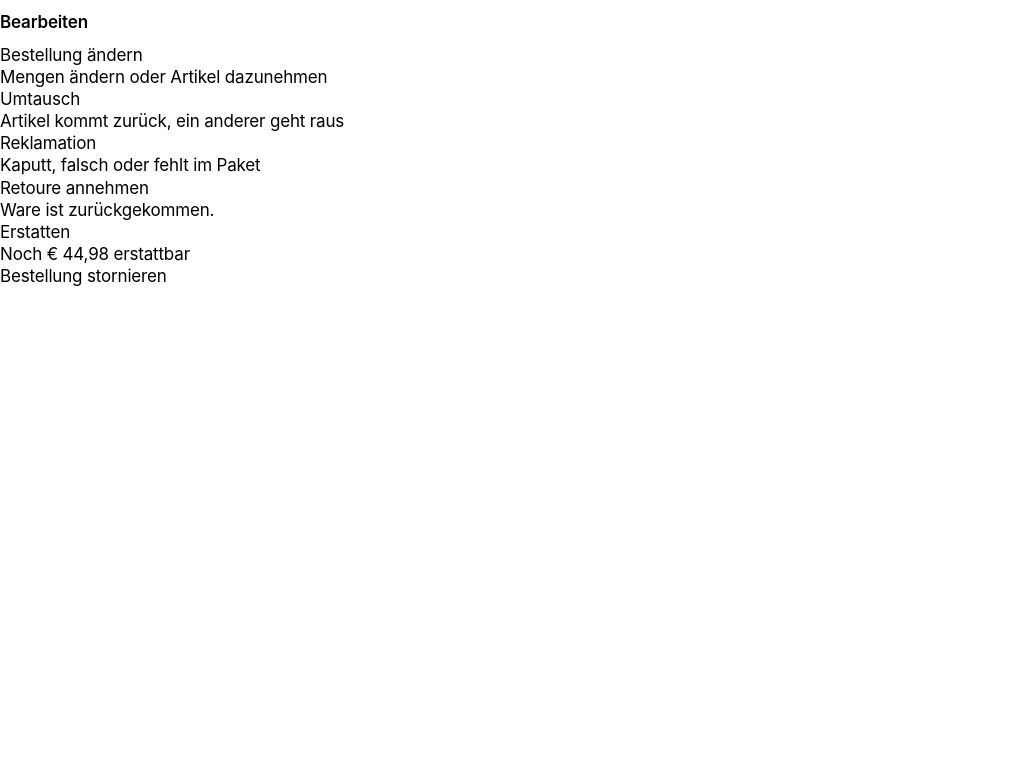
Scenario: refund › rejects an amount above the maximum before any request
Later steps or results of the test are not shown.
Click the button "Erstatten Noch € 44,98 erstattbar" at (35,232), box x1=0 y1=221 x2=1023 y2=265
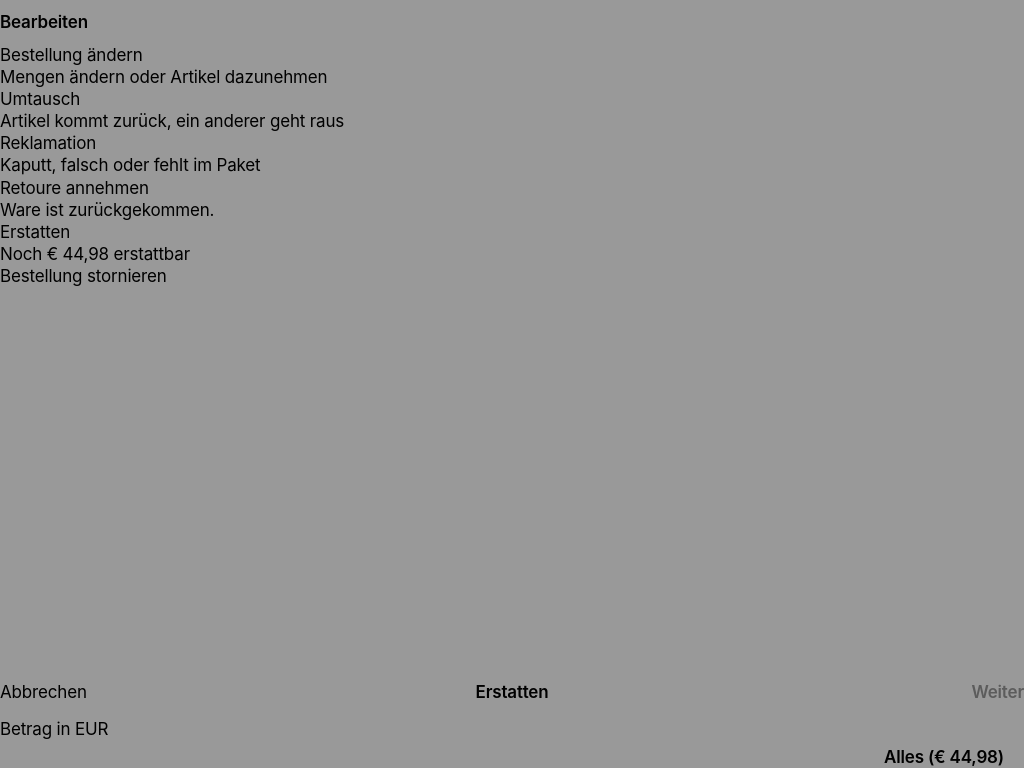
Type "44,99" into the field labelled "Betrag in EUR" at (512,757), box x1=0 y1=746 x2=1023 y2=767
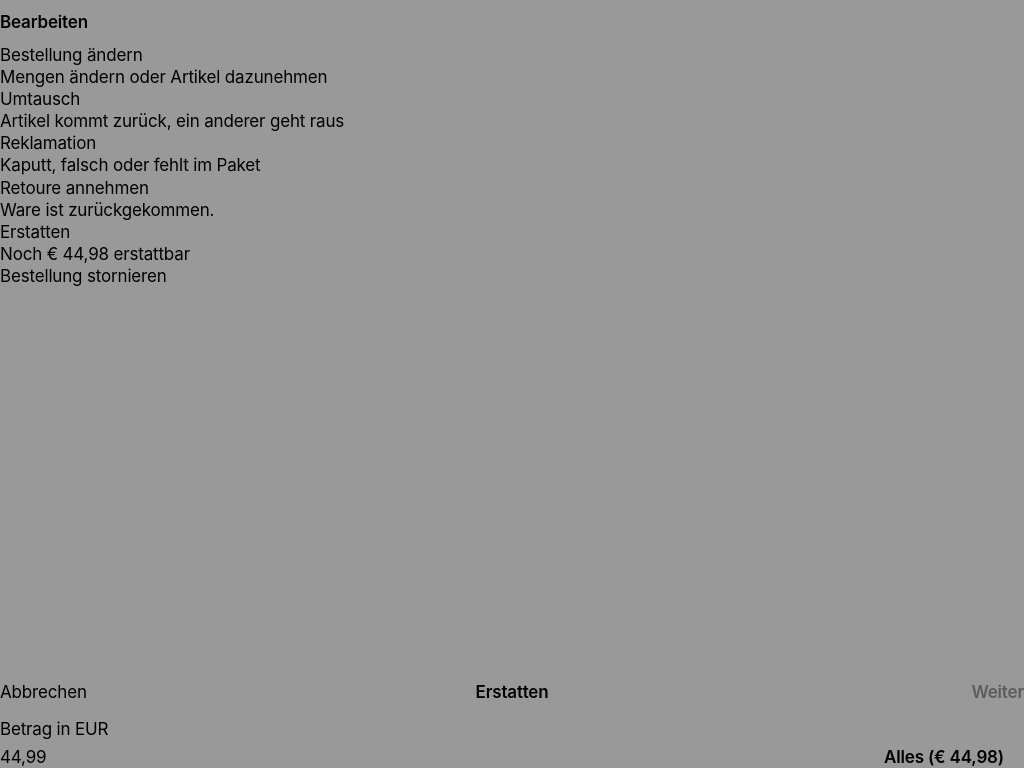
Leave the field labelled "Betrag in EUR", box x1=0 y1=746 x2=1023 y2=767
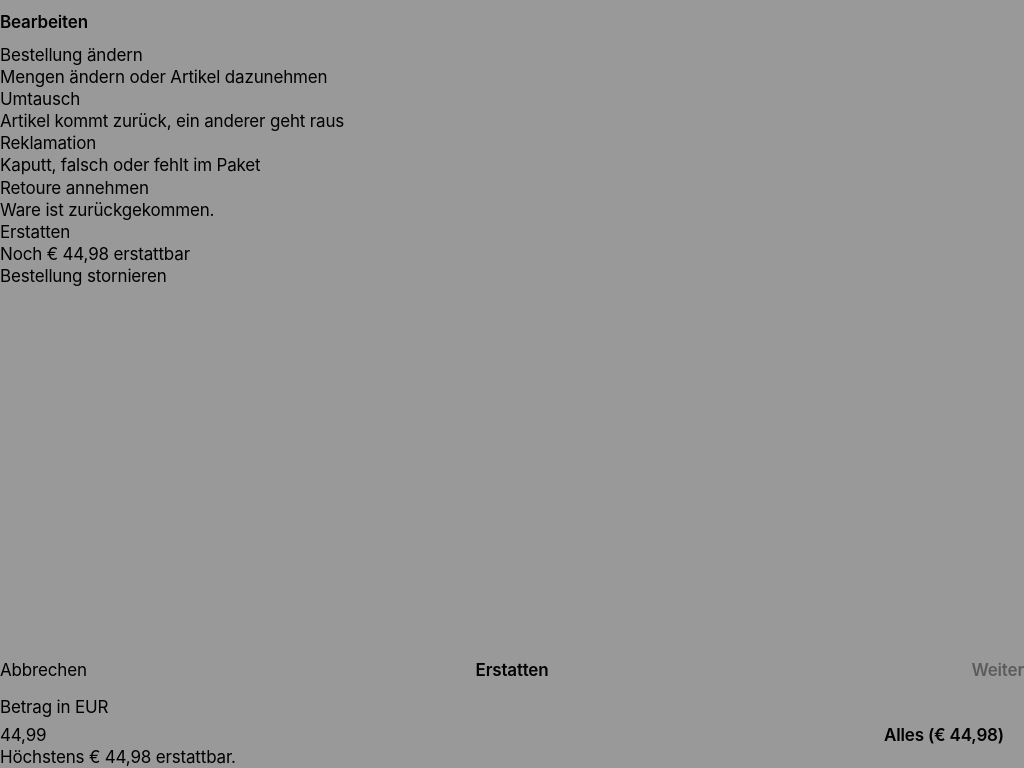
Expected: the button "Weiter" is disabled, x1=971 y1=648 x2=1023 y2=692
Expected: the text "Höchstens € 44,98 erstattbar." is shown, x1=0 y1=747 x2=236 y2=767
